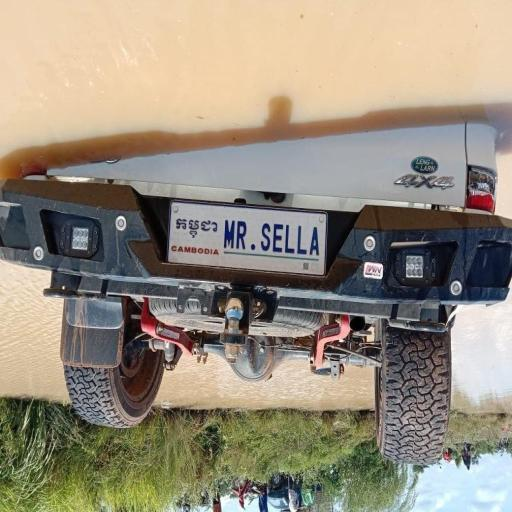Plate Number: (169, 202, 328, 276)
